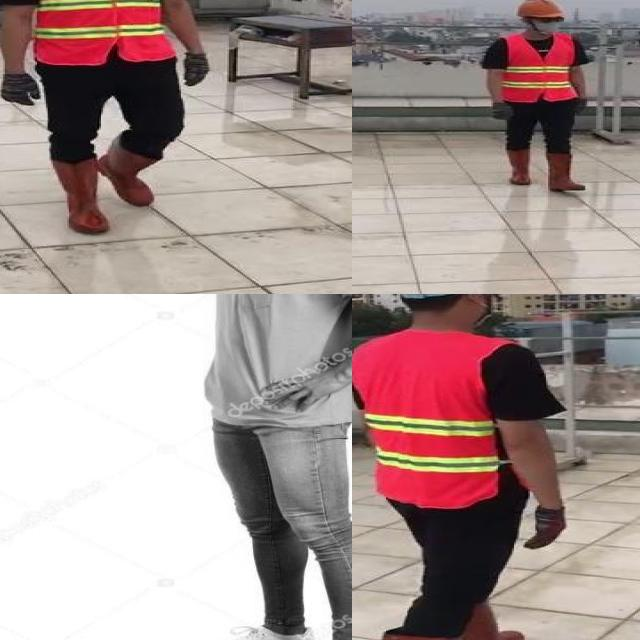boots: (96, 135, 163, 206), (53, 160, 113, 236), (455, 605, 524, 640), (544, 151, 586, 191), (504, 147, 534, 184)
face_mask: (533, 14, 565, 34)
glasses: (537, 14, 566, 24)
hand_glove: (528, 506, 564, 550), (178, 51, 218, 87), (0, 72, 40, 106), (493, 103, 514, 121), (575, 99, 587, 117)
hand_noglove: (257, 369, 349, 416)
head_helmet: (513, 0, 566, 18)
person: (352, 294, 594, 640), (184, 294, 352, 640), (0, 0, 214, 242), (479, 0, 598, 196)
vest: (352, 333, 510, 505), (26, 0, 179, 63), (504, 34, 576, 102)
